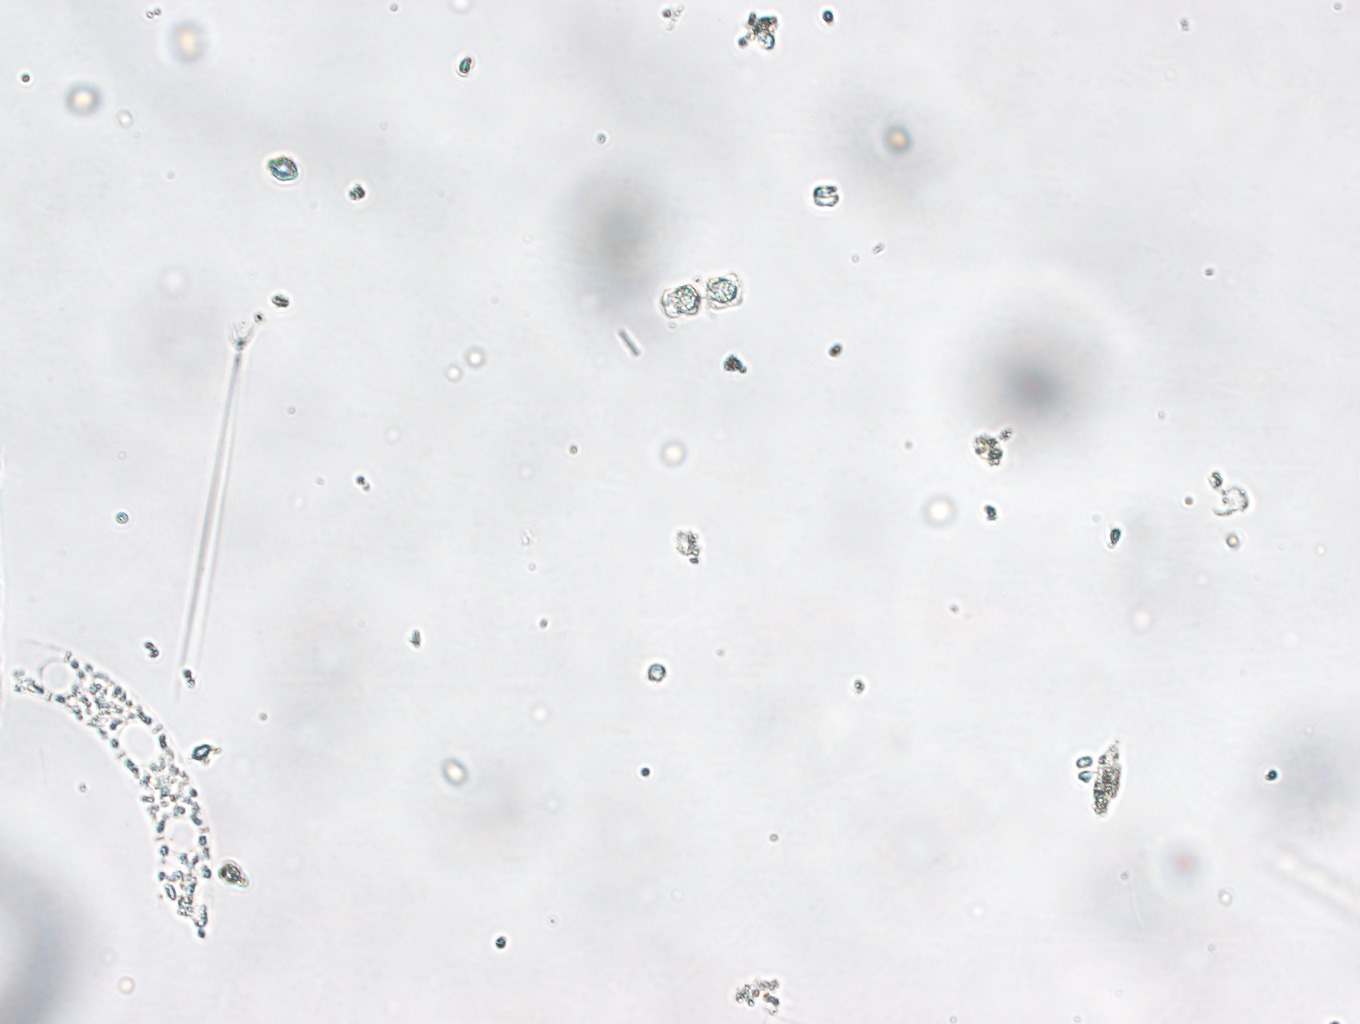eucampia: (1, 626, 225, 958)
